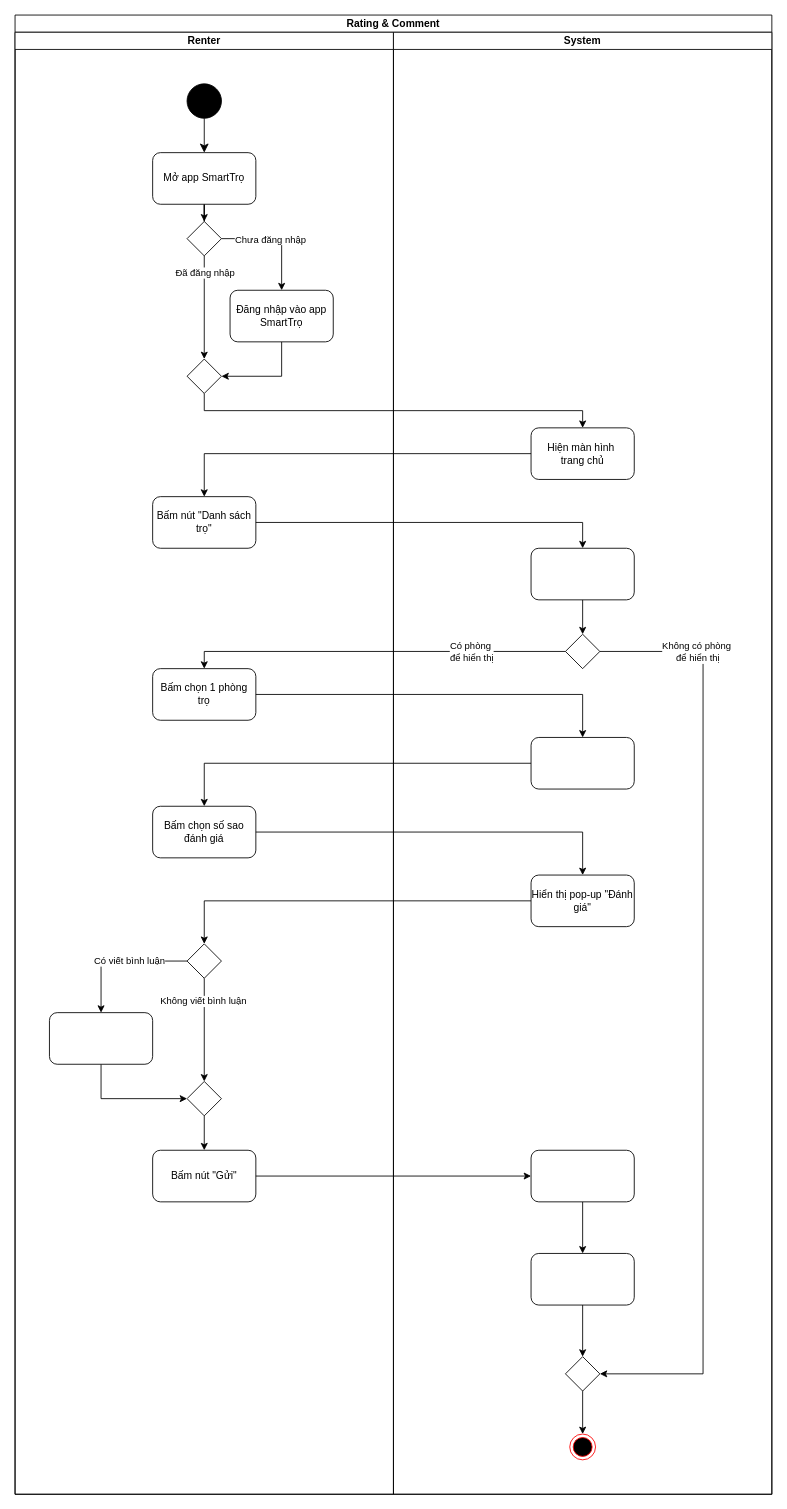
Image size: 787x1509. Some labels were removed from this diagram. Each missing label, with the centre of its shape:
Hiển thị màn hình "Danh sách phòng": point (582, 573)
Hiển thị màn hình chi tiết phòng trọ: point (582, 763)
Hiển thị đánh giá vừa gửi trên màn hình "Chi tiết phòng trọ": point (582, 1279)
Lưu thông tin đánh giá: point (582, 1175)
Nhập bình luận vào input: point (101, 1038)
